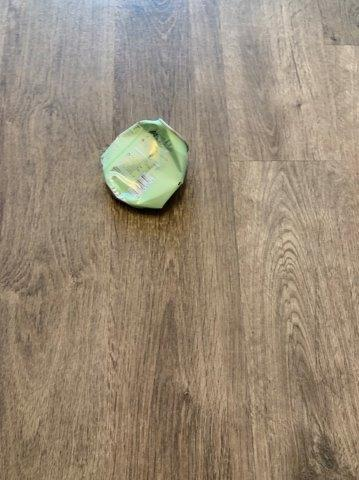kaleng: (103, 119, 186, 208)
